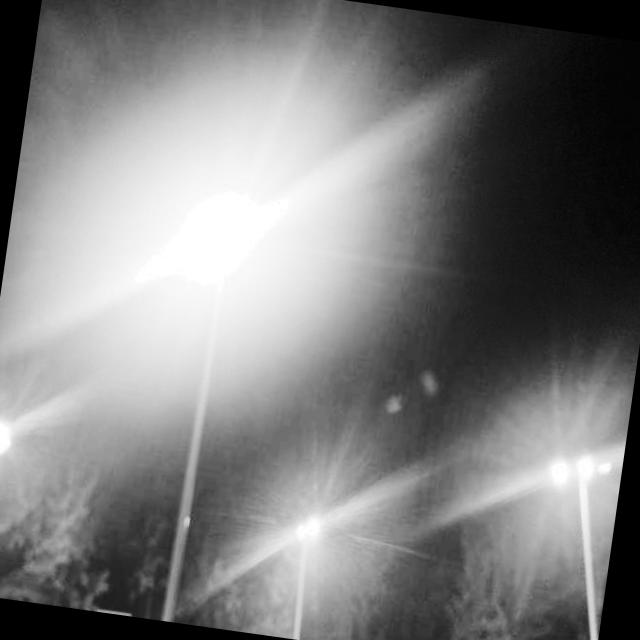Light: (96, 178, 298, 631), (523, 442, 625, 640), (272, 508, 330, 640), (0, 413, 30, 599)
